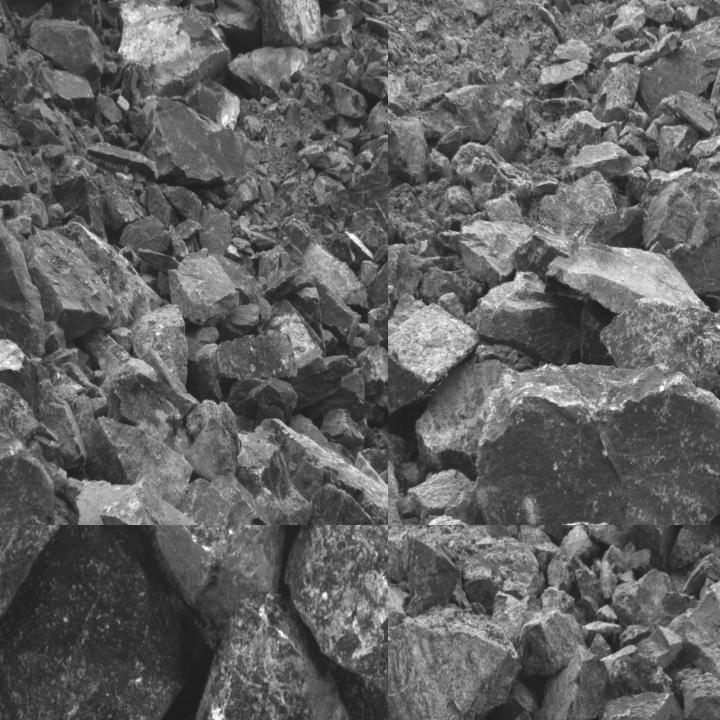stone: (474, 363, 719, 524), (0, 525, 184, 719), (152, 594, 387, 719), (114, 525, 306, 650), (284, 525, 387, 705), (388, 608, 520, 719), (472, 272, 620, 370), (261, 416, 387, 524), (416, 356, 525, 473), (388, 305, 480, 435), (552, 240, 708, 314), (598, 299, 719, 394), (136, 97, 246, 194), (29, 225, 116, 344), (121, 0, 225, 98), (636, 5, 719, 127), (83, 417, 193, 505), (100, 358, 186, 456), (460, 220, 575, 287), (235, 430, 315, 524), (417, 82, 513, 160), (0, 200, 46, 360), (134, 304, 197, 413), (454, 141, 534, 224), (168, 249, 241, 326), (669, 198, 719, 306), (672, 575, 719, 688), (346, 115, 387, 243), (539, 650, 613, 719), (465, 539, 543, 603), (101, 478, 209, 524), (302, 235, 370, 308), (613, 570, 694, 630), (28, 21, 104, 84), (38, 380, 90, 470), (403, 538, 461, 618), (209, 474, 298, 524), (522, 609, 585, 676), (187, 398, 239, 477), (219, 330, 298, 381), (229, 46, 308, 97), (644, 180, 696, 248), (253, 0, 325, 49), (52, 177, 105, 238), (174, 479, 240, 524), (388, 106, 424, 187), (593, 61, 640, 123), (619, 525, 682, 570), (0, 371, 39, 443), (0, 337, 41, 405), (189, 79, 243, 129), (40, 68, 96, 116), (609, 654, 672, 695), (318, 290, 360, 346), (566, 145, 633, 180), (662, 94, 718, 135), (599, 689, 675, 719), (242, 378, 298, 418), (637, 625, 686, 669), (265, 252, 313, 296), (657, 122, 701, 170), (572, 554, 606, 616), (677, 669, 719, 719), (117, 214, 171, 252), (320, 406, 369, 447), (537, 59, 589, 97), (292, 285, 325, 343), (672, 525, 719, 565), (560, 112, 606, 151), (0, 141, 30, 200), (328, 79, 369, 121), (159, 182, 201, 223), (388, 444, 409, 524), (198, 203, 230, 255), (0, 69, 37, 112), (542, 98, 590, 128), (560, 526, 598, 561), (362, 346, 387, 396), (388, 529, 411, 583), (362, 301, 387, 346), (388, 584, 411, 632), (361, 12, 387, 54), (371, 240, 387, 306), (551, 39, 593, 64), (388, 74, 412, 117), (281, 224, 308, 262), (358, 74, 387, 107), (518, 525, 554, 546), (366, 102, 387, 136), (600, 559, 616, 600), (709, 70, 719, 123), (358, 260, 379, 285), (126, 0, 206, 6), (537, 525, 567, 541)
